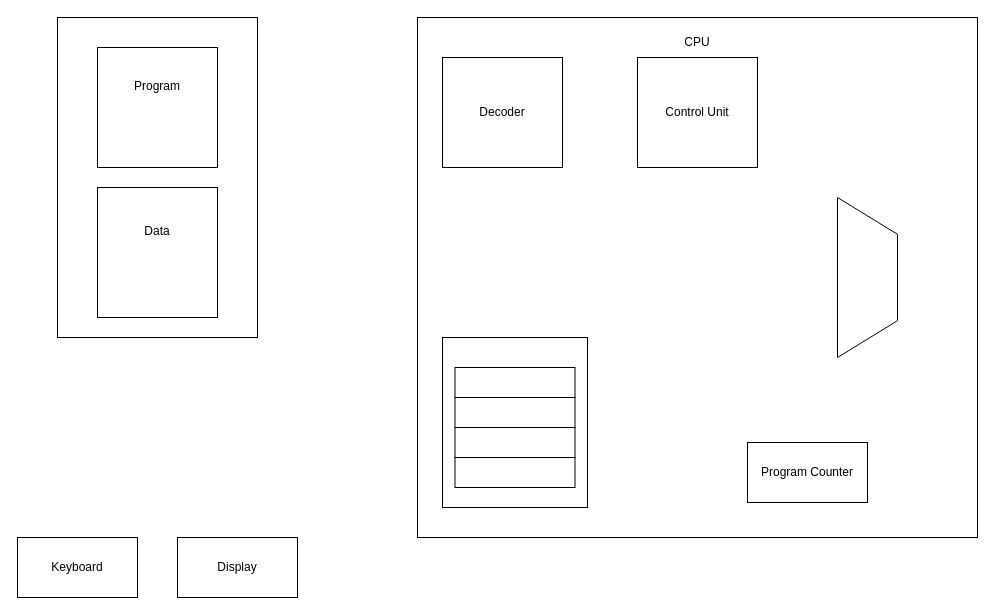
Some shapes in this 995 by 615 pixel diagram are drawn without their labels. The shapes that lost their labels are listed below. From the top down, each one's box as (x1, y1, x2, y2) in pixels, then its label:
(56, 16, 258, 338): Memory
(836, 196, 898, 358): ALU
(442, 336, 588, 508): Registers
